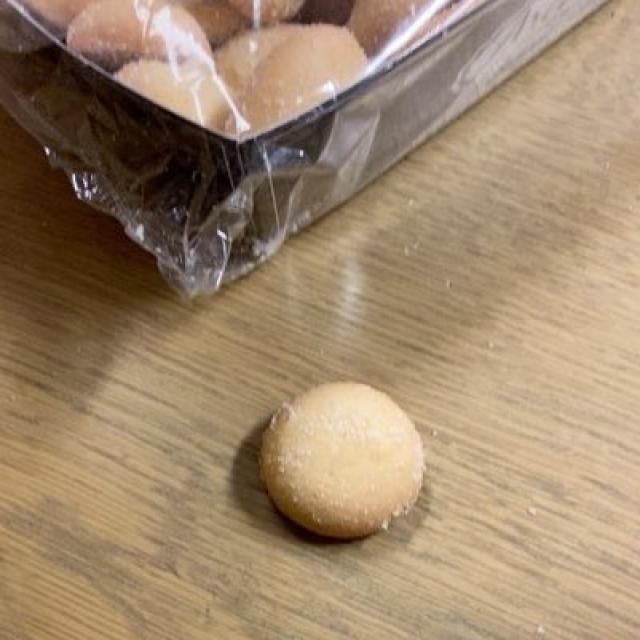biscuits: (256, 380, 424, 538)
